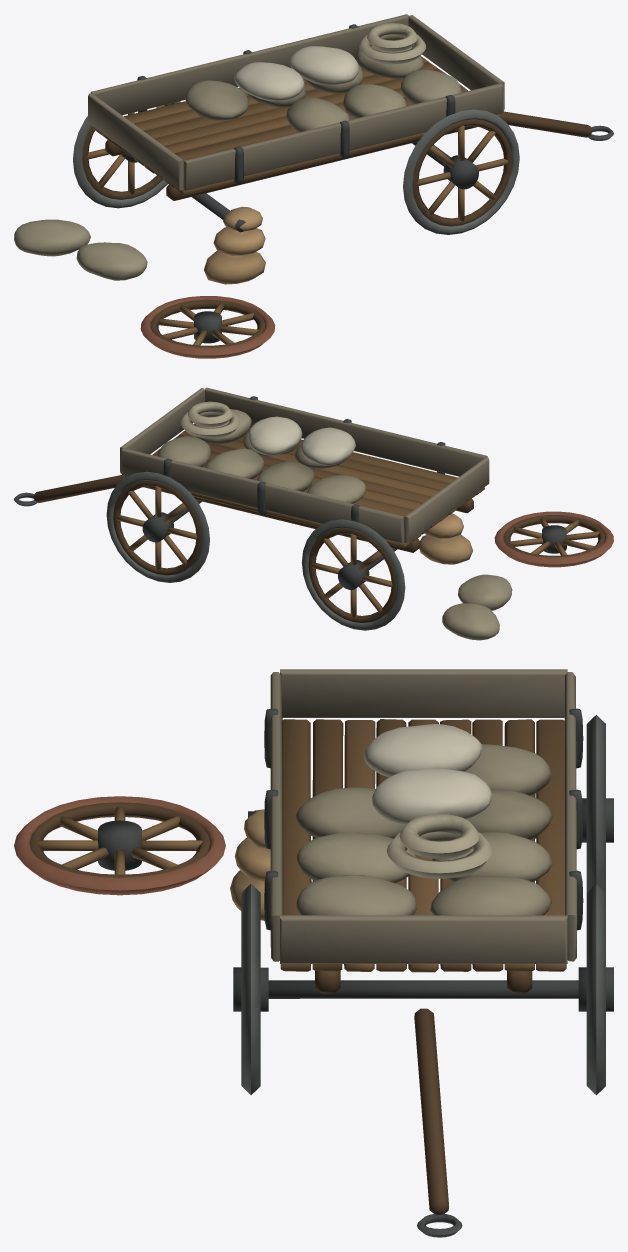
File: haul_wagon_b_lod1.glb
3 views of the same model, one above another, from view 1: azimuth 30°, elevation 25°; view 2: azimuth 150°, elevation 25°; view 3: azimuth 270°, elevation 25° (orthographic). The views are drawn at different scales.
Parts seen in each view (by area): view 1: Surface.001; view 2: Surface.001; view 3: Surface.001.
Boxes of the visible parts, <box> form: Surface.001: <box>14,14,613,358</box>; Surface.001: <box>14,387,613,640</box>; Surface.001: <box>14,669,613,1237</box>.
Size of the model in its own units: 6.45 by 1.75 by 3.75.
